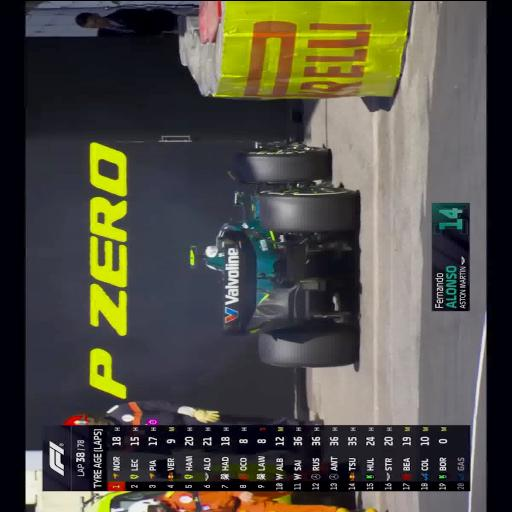f1_car: (189, 141, 358, 367)
